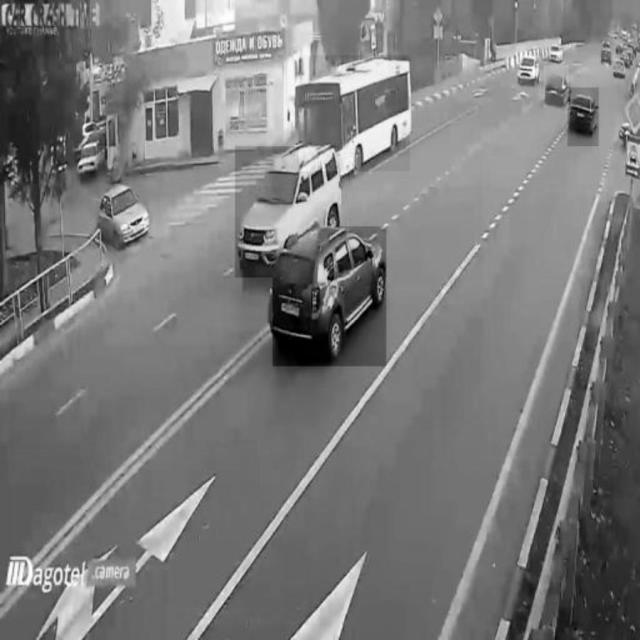vehicle: (273, 227, 386, 367), (235, 147, 339, 278), (299, 55, 410, 171), (98, 184, 152, 251), (568, 87, 598, 145), (517, 47, 542, 97), (545, 66, 570, 108), (609, 56, 627, 83)
